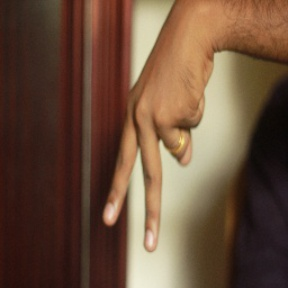Y: (102, 49, 209, 252)
